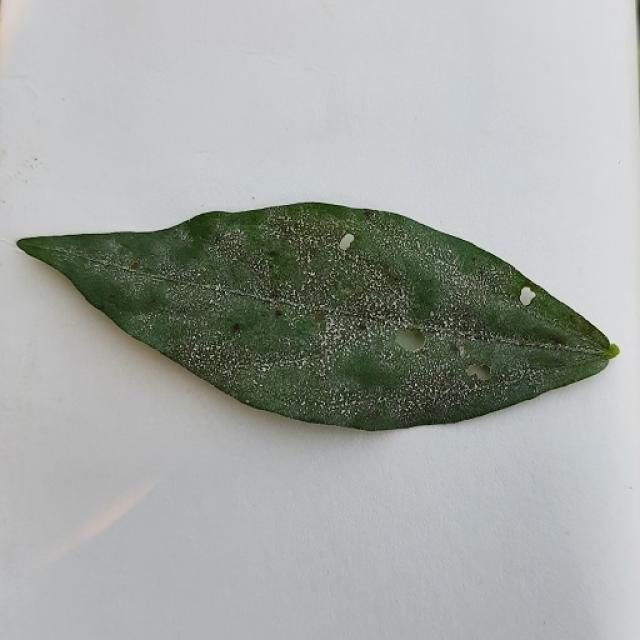Blackgram: (19, 202, 616, 430)
Powdery_Mildew: (374, 343, 514, 413), (311, 276, 396, 351), (254, 327, 346, 380), (298, 369, 372, 415), (446, 308, 489, 338), (215, 228, 249, 257), (458, 327, 507, 345), (222, 315, 254, 337), (540, 328, 569, 345), (431, 319, 456, 334), (173, 226, 193, 243), (426, 386, 443, 401), (251, 261, 267, 276), (277, 221, 292, 236), (312, 310, 327, 325), (341, 285, 357, 297), (451, 341, 463, 355), (213, 235, 225, 247), (265, 249, 279, 258), (353, 286, 365, 296), (363, 210, 375, 220), (477, 268, 487, 279), (391, 275, 402, 284), (273, 309, 283, 318), (96, 303, 106, 312), (148, 298, 158, 306), (107, 293, 117, 301), (470, 255, 478, 263)
